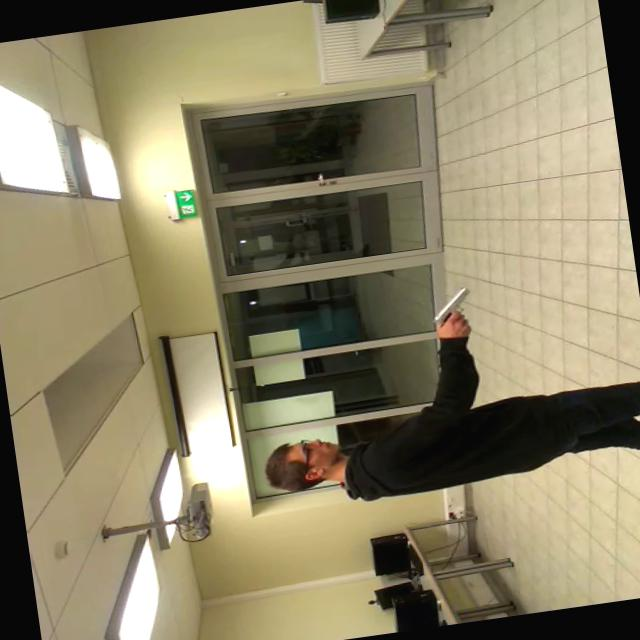handgun: (422, 279, 492, 332)
